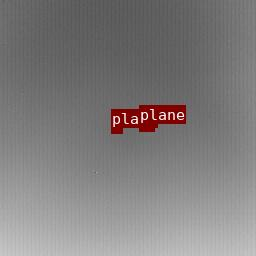plane: (139, 124, 154, 131), (111, 128, 122, 133)
